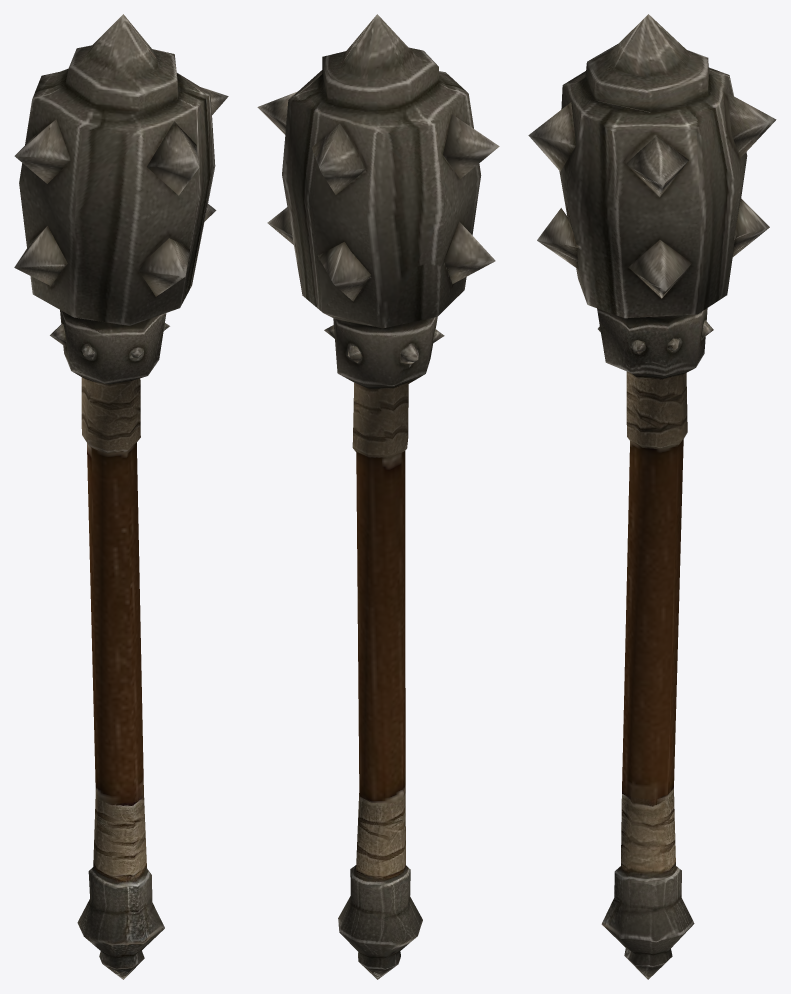
File: 2HMace.fbx
3 views of the same model, side by side, from view 1: azimuth 30°, elevation 25°; view 2: azimuth 150°, elevation 25°; view 3: azimuth 270°, elevation 25° (orthographic).
Visible parts, largest first — view 1: tripo_node_b4920b0a; view 2: tripo_node_b4920b0a; view 3: tripo_node_b4920b0a.
Part boxes in pixels (x1=…): tripo_node_b4920b0a: x1=14, y1=14, x2=228, y2=979; tripo_node_b4920b0a: x1=257, y1=14, x2=499, y2=979; tripo_node_b4920b0a: x1=528, y1=14, x2=776, y2=979.
Bounding box in the file's own units: 21.91 × 88.52 × 20.62.
Materials: 1 (1 with a texture image).
